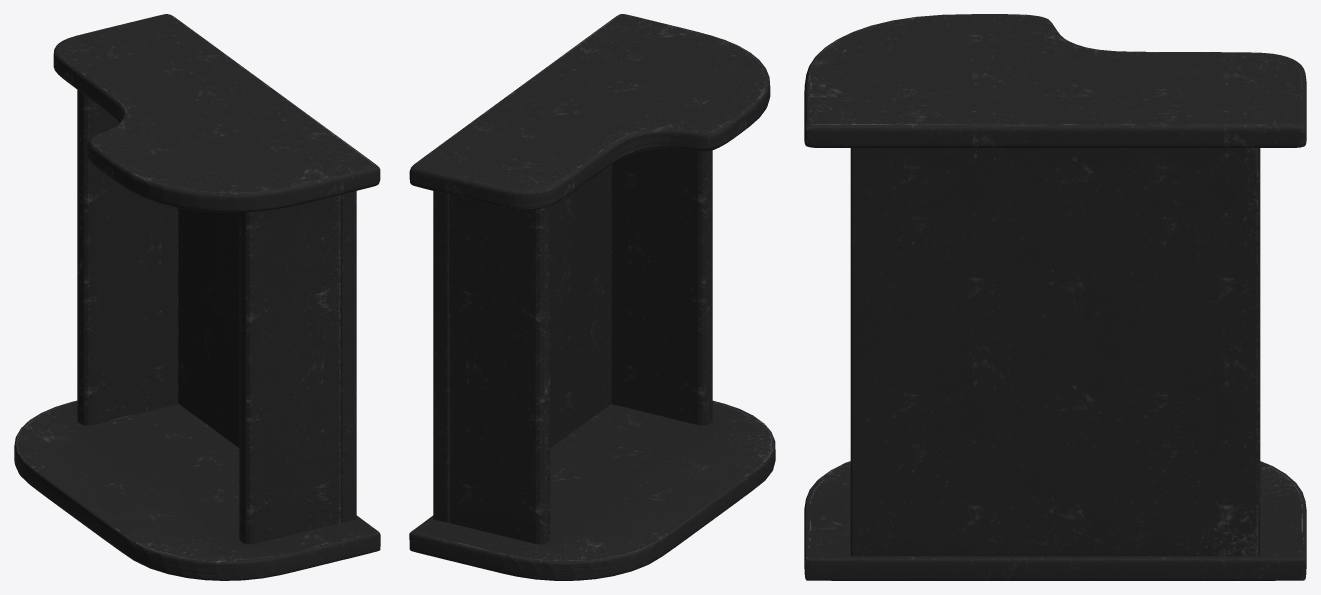
The model's file is Shelf_15.fbx.
The picture shows the model from 3 angles, left to right: view 1: azimuth 30°, elevation 25°; view 2: azimuth 150°, elevation 25°; view 3: azimuth 270°, elevation 25°; orthographic projection. The views are drawn at different scales.
Parts seen in each view (by area): view 1: shelf_01_20_Material.001_0; view 2: shelf_01_20_Material.001_0; view 3: shelf_01_20_Material.001_0.
Boxes of the visible parts, left/top/right/bottom form: shelf_01_20_Material.001_0: left=14, top=14, right=380, bottom=580; shelf_01_20_Material.001_0: left=409, top=14, right=775, bottom=580; shelf_01_20_Material.001_0: left=804, top=14, right=1306, bottom=580.
Bounding box in the file's own units: 21 × 39.03 × 39.
1 material, 1 textured.
